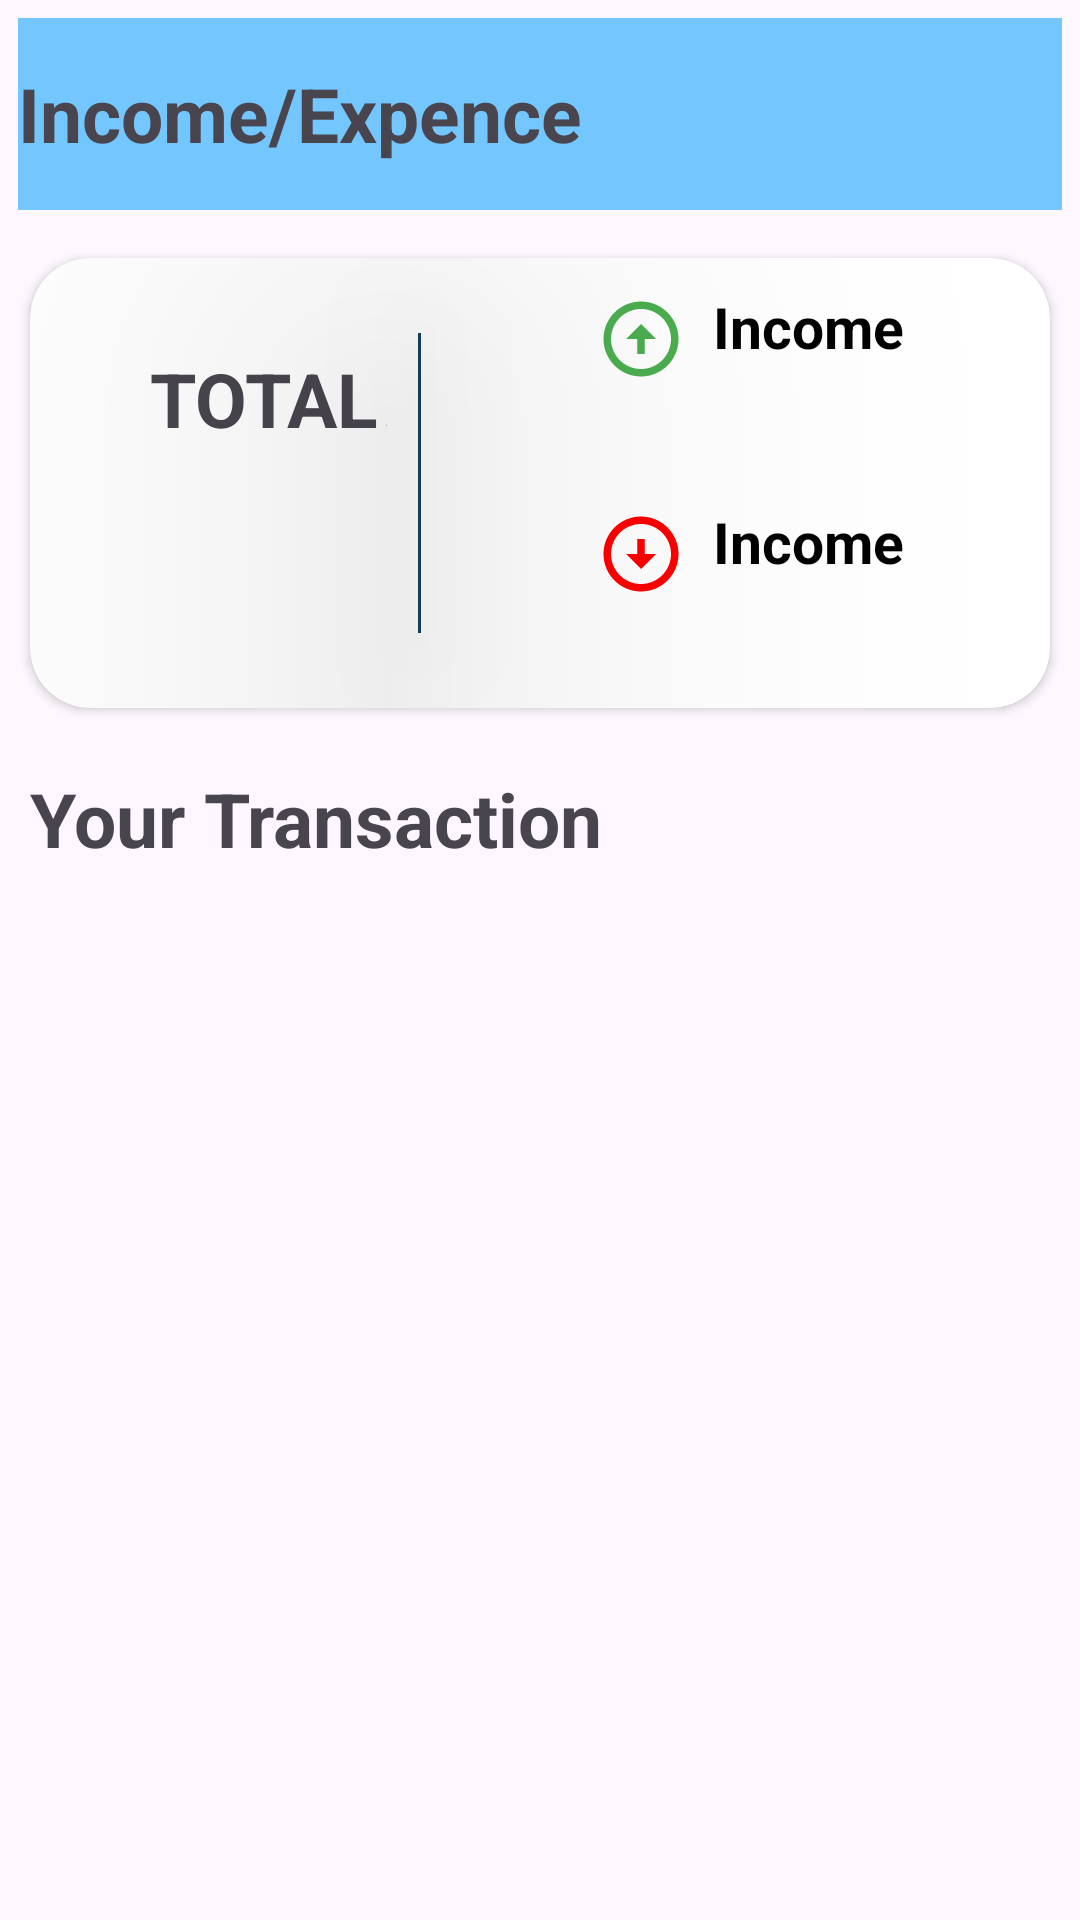

Named icons in this screenshot (1080 × 1920) and their centers, (x,y):
arrow circle down: (641,554)
arrow circle up: (641,339)
